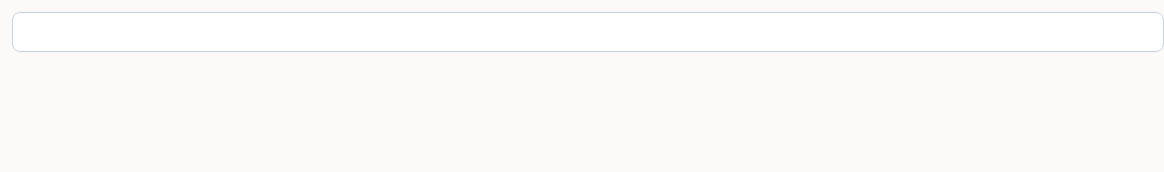
Test: CarSearchAutocomplete › Clear functionality › CAR-U-016: clears input and calls onChange with null on clear
Type "Test" into the dropdown. click: (588, 32)
box: [12,12,1163,52]
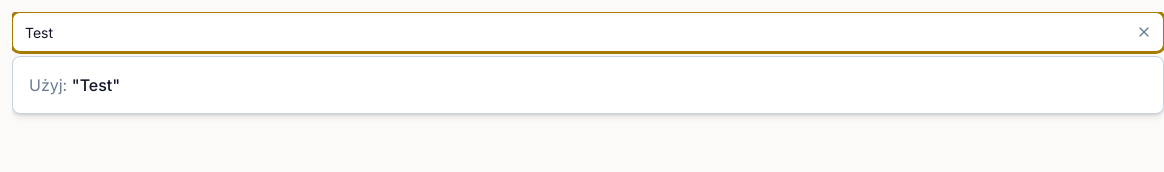
Click the button named "wyczyść". click: (1144, 32)
box: [1132,20,1156,44]
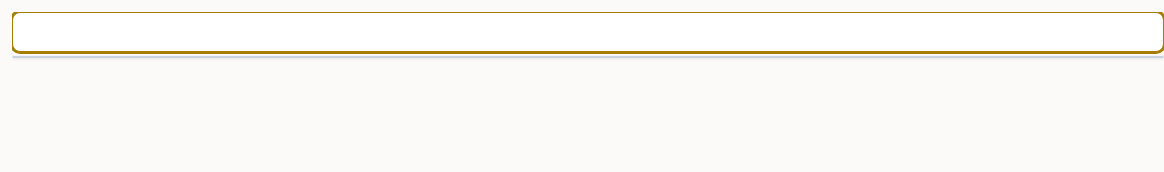
Expected: the dropdown is empty, [12,12,1163,52]
